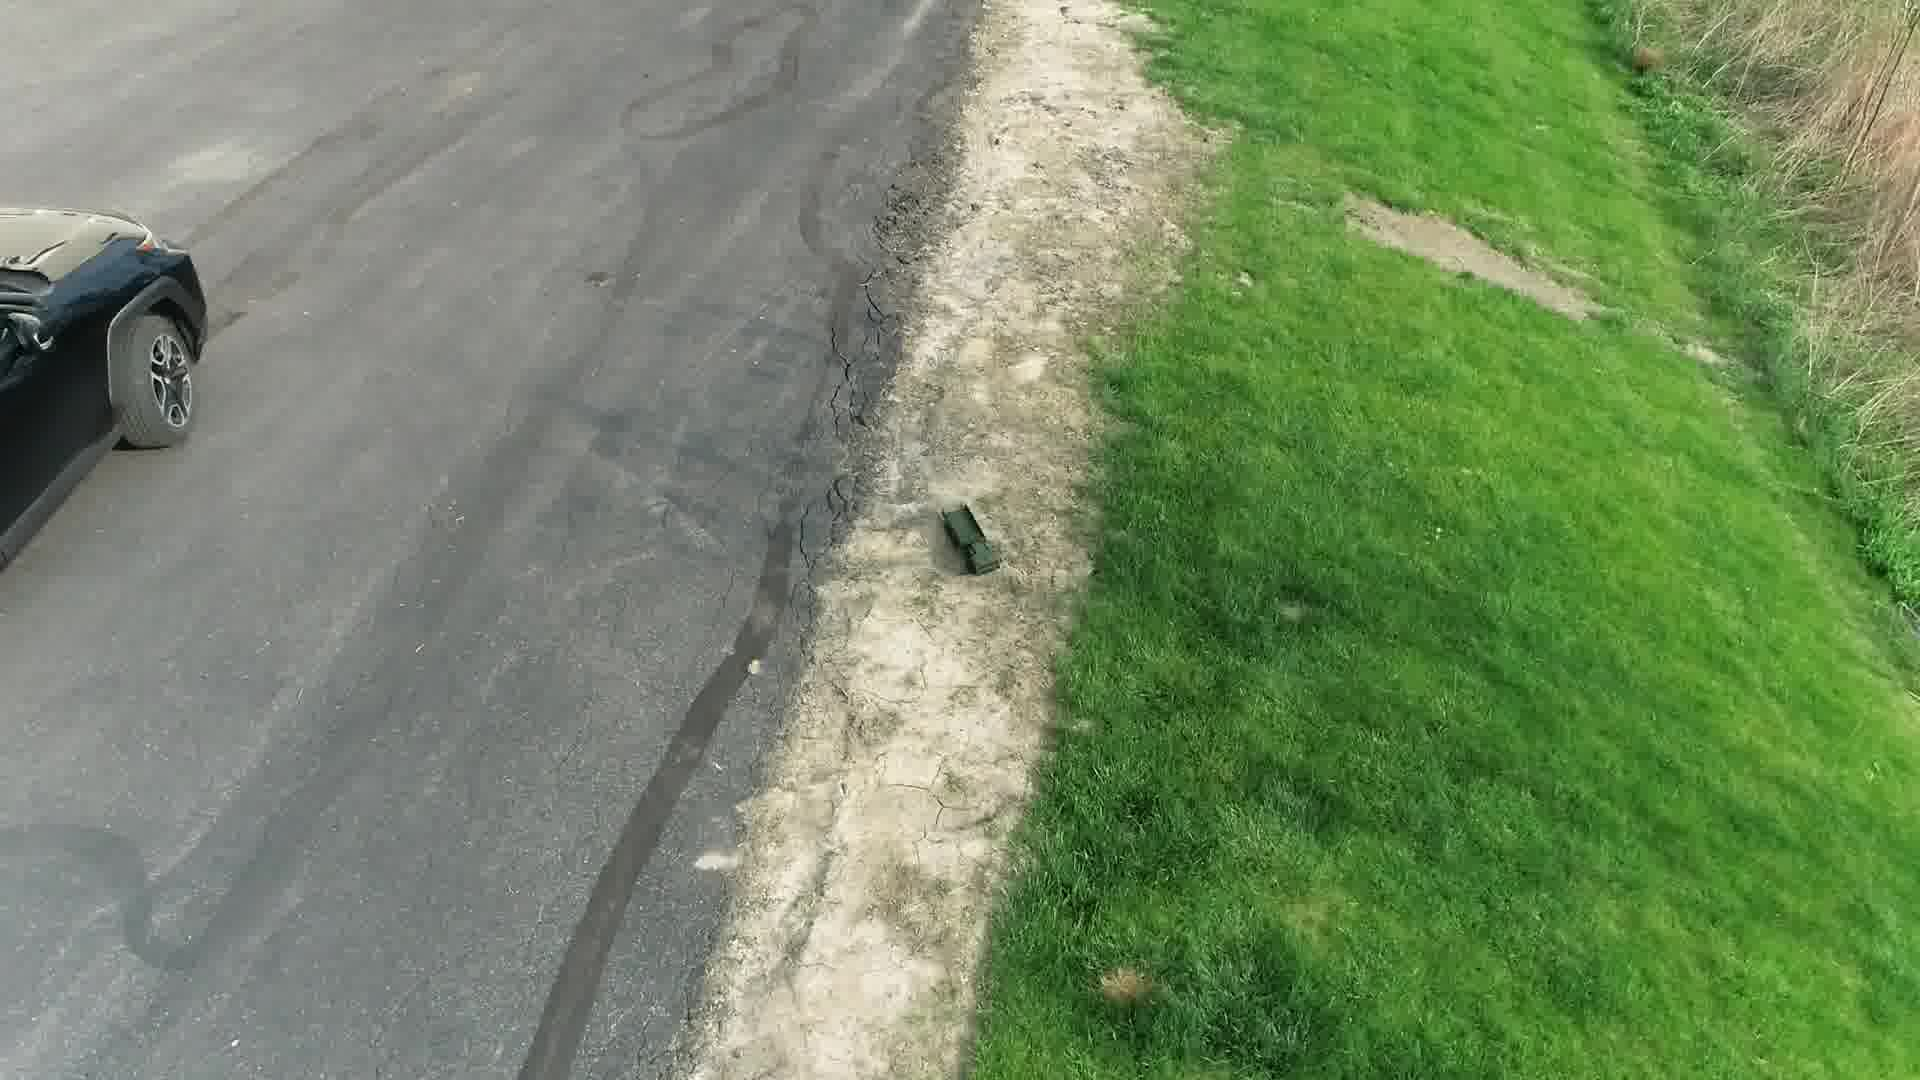transporter9: (936, 502, 1007, 578)
